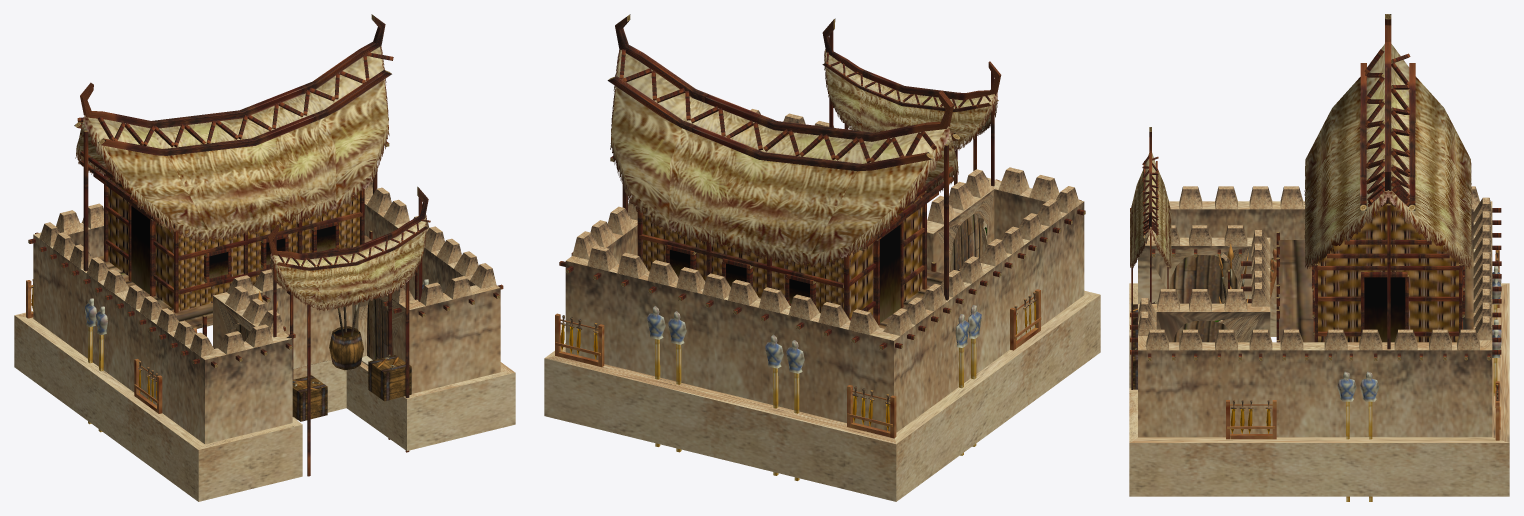
Rendered from barracks.dae.
3 views of the same model, side by side, from view 1: azimuth 30°, elevation 25°; view 2: azimuth 150°, elevation 25°; view 3: azimuth 270°, elevation 25° (orthographic). The views are drawn at different scales.
Parts seen in each view (by area): view 1: barracks; view 2: barracks; view 3: barracks.
Boxes of the visible parts, box(x1,y1,x2,y2) form: barracks: box(14, 14, 515, 501); barracks: box(544, 14, 1100, 501); barracks: box(1129, 14, 1509, 501).
Bounding box in the file's own units: 20.14 × 20.25 × 20.09.
